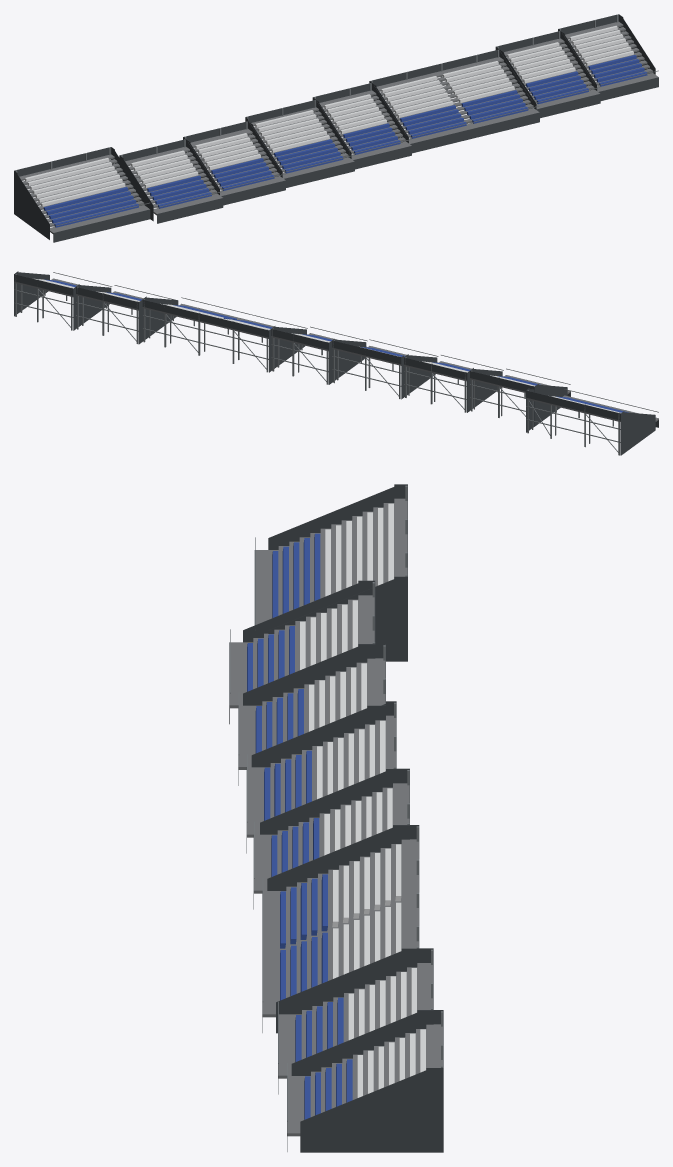
The model's file is rbr_open_steiermark.glb.
The picture shows the model from 3 angles, top to bottom: view 1: azimuth 30°, elevation 25°; view 2: azimuth 150°, elevation 25°; view 3: azimuth 270°, elevation 25°; orthographic projection. The views are drawn at different scales.
Parts seen in each view (by area): view 1: red-bull-ring-steiermark; view 2: red-bull-ring-steiermark; view 3: red-bull-ring-steiermark.
Part boxes in pixels (bbox=[...]): red-bull-ring-steiermark: bbox=[14, 14, 658, 242]; red-bull-ring-steiermark: bbox=[14, 271, 658, 455]; red-bull-ring-steiermark: bbox=[229, 484, 443, 1152].
Size of the model in its own units: 105 by 7.12 by 16.32.
